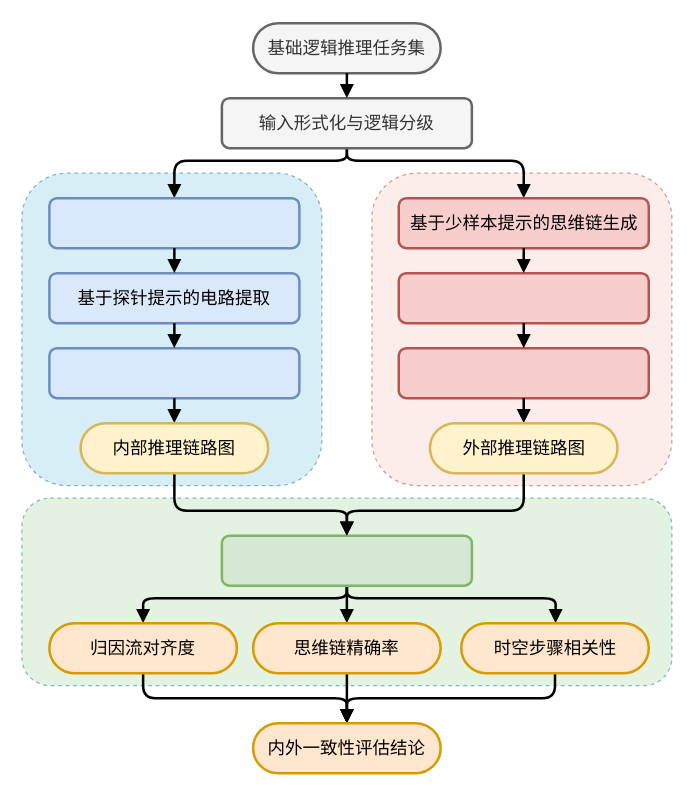
Some shapes in this 694 by 795 pixel diagram are drawn without their labels. Here are the shapes that lost their labels. From the top down, the centre of each, then its label:
At (174,222): "初始特征归因图生成".
At (523,297): "正则启发式文本解析".
At (174,372): "归因流拓扑精简与剪枝".
At (523,372): "逻辑步骤离散化分离".
At (346,560): "跨空间节点语义对齐".
